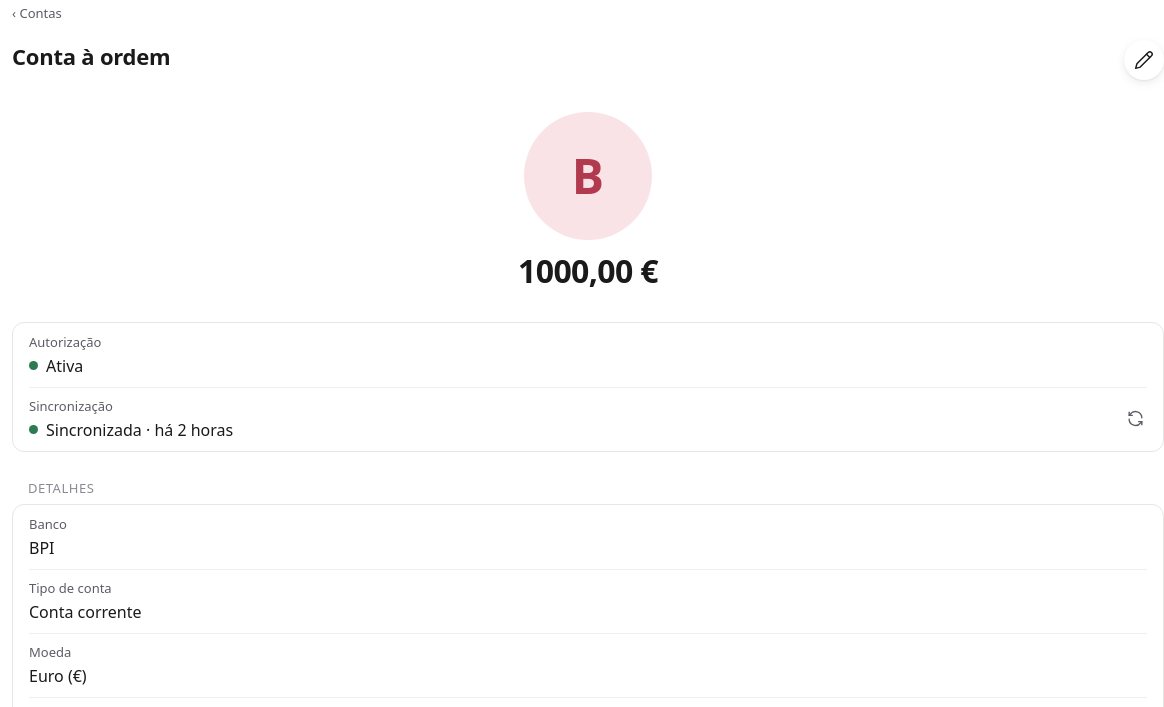
Ver conta — o painel do banco › sem ligação ao banco: «Falhou · sem ligação», o aviso e o ↻ para tentar outra vez
This screenshot has width=1164, height=707.
Click the button named "Sincronizar agora" at {"x": 1135, "y": 418}, box [1113,396,1157,440]
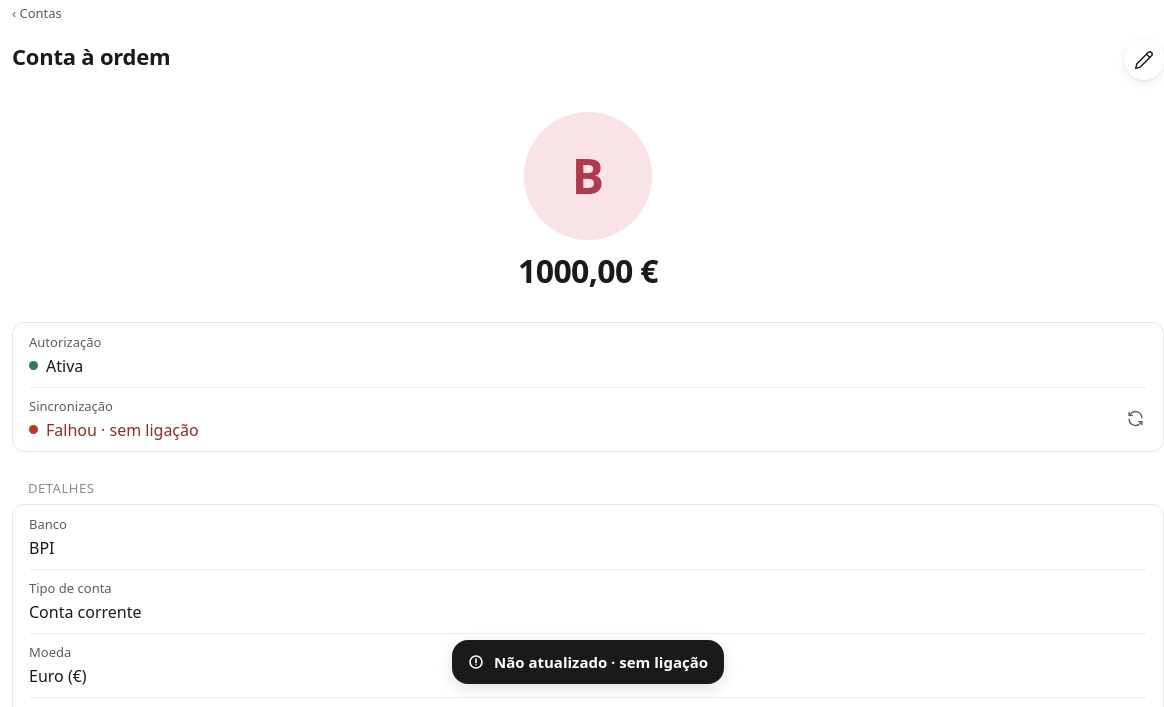
Check: the text "Falhou · sem ligação" is shown, box [46,418,199,440]
Check: the text "Não atualizado · sem ligação" is shown, box [494,652,708,672]
